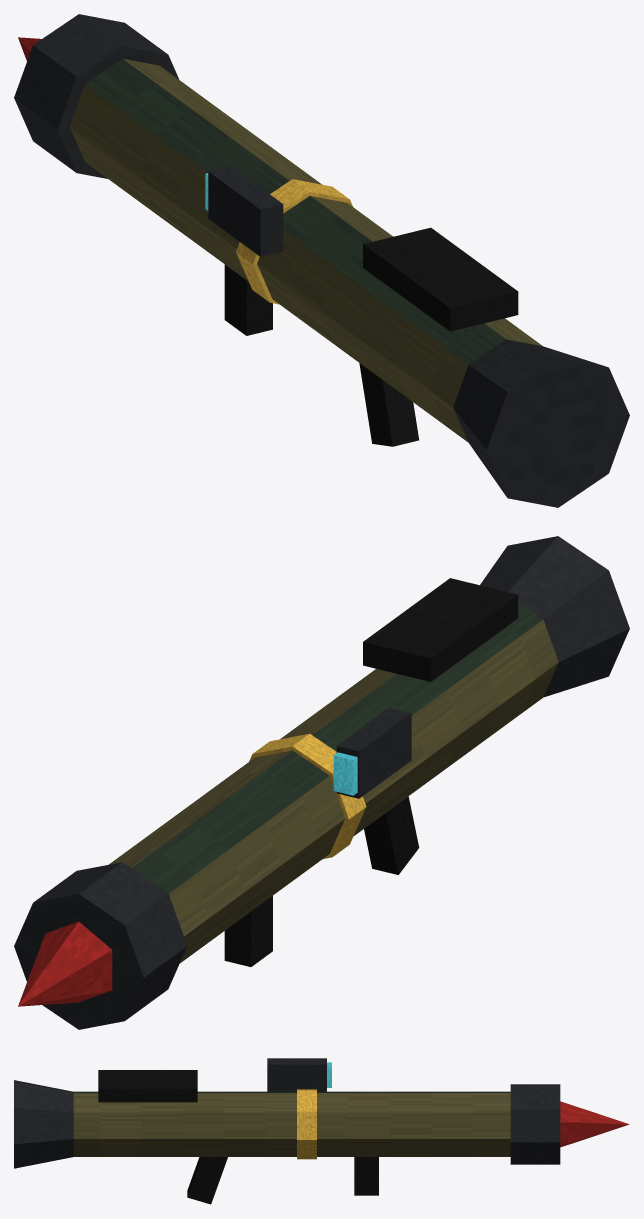
File: weapon_rocket_launcher.glb
The picture shows the model from 3 angles, top to bottom: view 1: azimuth 30°, elevation 25°; view 2: azimuth 150°, elevation 25°; view 3: azimuth 270°, elevation 25°; orthographic projection. The views are drawn at different scales.
Visible parts, largest first — view 1: weapon_rocket_launcher; view 2: weapon_rocket_launcher; view 3: weapon_rocket_launcher.
Boxes of the visible parts, x1,y1,x2,y2 form: weapon_rocket_launcher: (14,14,629,507); weapon_rocket_launcher: (14,536,629,1029); weapon_rocket_launcher: (14,1058,629,1204).
Bounding box in the file's own units: 0.195 × 0.27 × 1.24.
Materials: 2 (2 with a texture image).
